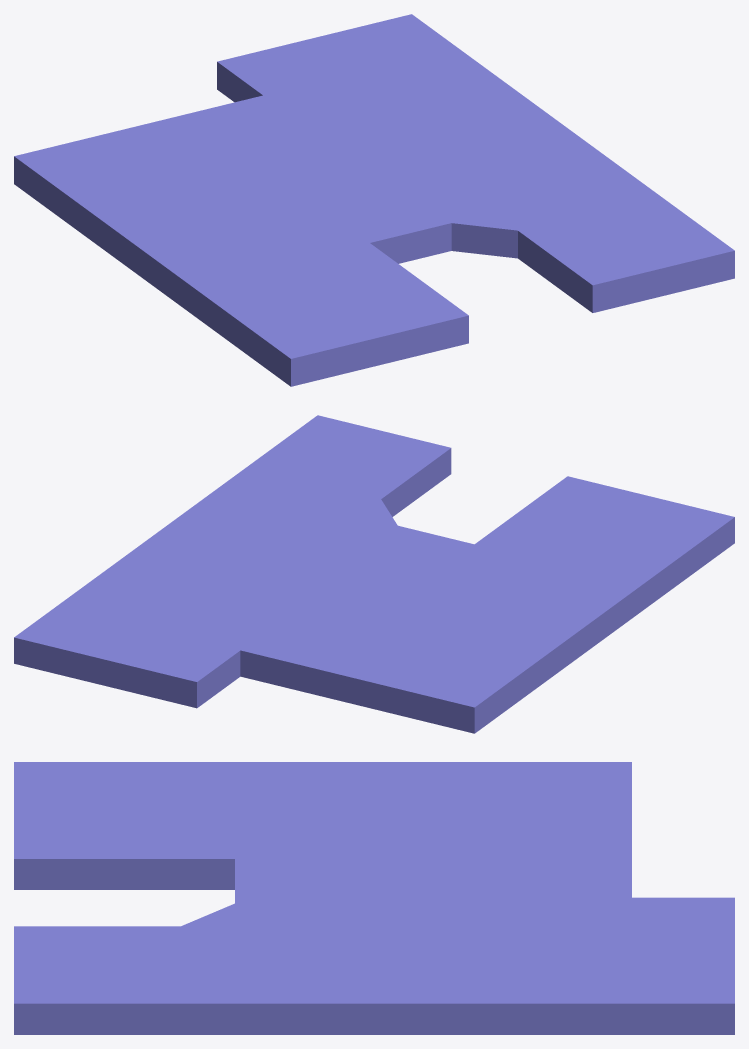
Rendered from BodenWohnzimmer.fbx.
3 views of the same model, one above another, from view 1: azimuth 30°, elevation 25°; view 2: azimuth 150°, elevation 25°; view 3: azimuth 270°, elevation 25° (orthographic). The views are drawn at different scales.
Visible parts, largest first — view 1: Boden; view 2: Boden; view 3: Boden.
Boxes of the visible parts, <box> form: Boden: <box>14,14,734,386</box>; Boden: <box>14,415,734,733</box>; Boden: <box>14,762,734,1034</box>.
Bounding box in the file's own units: 833 × 50 × 1050.
